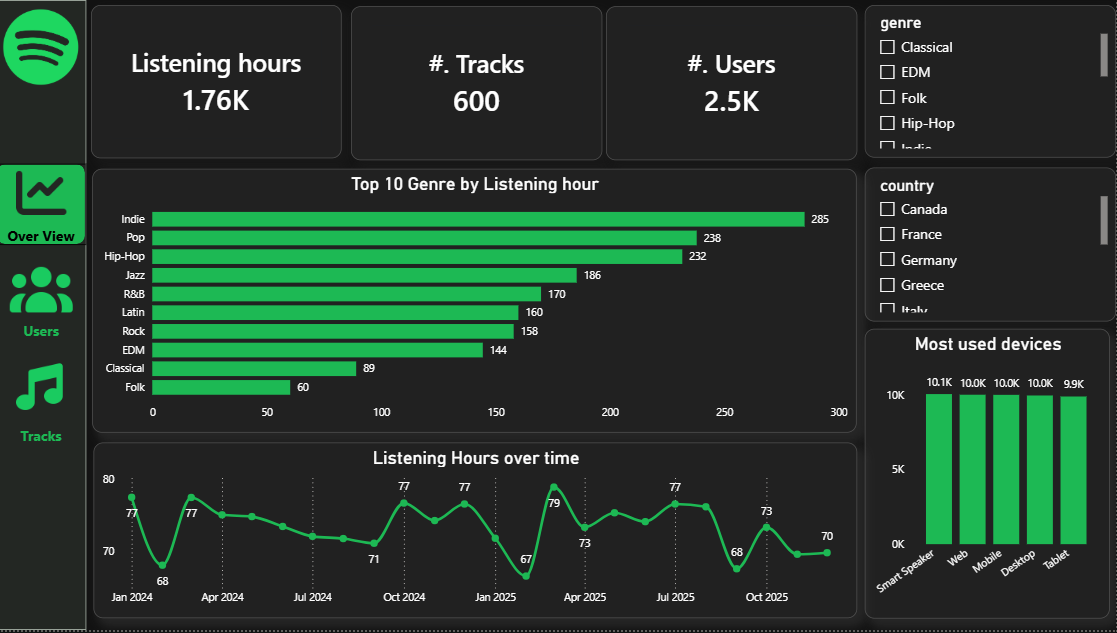

What the dashboard file says about the page in this screenshot:
{"tool":"powerbi","page":{"name":"Duplicate of Home","canvas":[1280,720],"ordinal":1},"visuals":[{"type":"shape","box":[0,0,103.3,720],"z":0},{"type":"shape","box":[697.1,535.7,288.6,175.7],"z":3000},{"type":"image","box":[6.7,8.3,88.3,90],"z":4000},{"type":"image","box":[15,183.3,71.7,75],"z":5000},{"type":"image","box":[15,268.3,71.7,75],"z":6000},{"type":"image","box":[15,356.7,71.7,75],"z":7000},{"type":"cardVisual","fields":{"Data":["fact_listens.Listing_hours"]},"box":[108.8,6.2,286.2,175],"z":8000},{"type":"cardVisual","fields":{"Data":["CountNonNull(dim_track.track_id)"]},"box":[405.7,7.1,287.1,175.7],"z":9000},{"type":"slicer","fields":{"Values":["dim_geo.country"]},"box":[992.9,191.4,287.1,175.7],"z":10000},{"type":"slicer","fields":{"Values":["dim_track.genre"]},"box":[992.9,5.7,287.1,174.3],"z":11000},{"type":"cardVisual","fields":{"Data":["CountNonNull(dim_user.user_id)"]},"box":[697.1,7.1,287.1,175.7],"z":12000},{"type":"clusteredBarChart","title":"Listening hours per Genre","fields":{"Category":["dim_track.genre"],"Y":["fact_listens.Listing_hours"]},"box":[110,192.9,872.9,334.3],"z":13000},{"type":"clusteredColumnChart","title":"Most used devices ","fields":{"Category":["dim_device.device_type"],"Y":["CountNonNull(fact_listens.session_id)"]},"box":[992.9,375.7,281.4,341.4],"z":14000},{"type":"donutChart","title":"Subscription Dist.","fields":{"Category":["dim_user.subscription_type"],"Y":["CountNonNull(dim_user.subscription_type)"]},"box":[108.6,535.7,580,178.6],"z":14001}]}

Visuals, with their boxes on the page's 1280x720 design canvas (x1, y1, x2, y2). These are canvas units, not pixel positions in the 1117x633 screenshot, which may show the page scaled, cropped or inside an application window:
shape: detection(0, 0, 103, 720)
shape: detection(697, 536, 986, 711)
image: detection(7, 8, 95, 98)
image: detection(15, 183, 87, 258)
image: detection(15, 268, 87, 343)
image: detection(15, 357, 87, 432)
cardVisual - fact_listens.Listing_hours: detection(109, 6, 395, 181)
cardVisual - CountNonNull(dim_track.track_id): detection(406, 7, 693, 183)
slicer - dim_geo.country: detection(993, 191, 1280, 367)
slicer - dim_track.genre: detection(993, 6, 1280, 180)
cardVisual - CountNonNull(dim_user.user_id): detection(697, 7, 984, 183)
"Listening hours per Genre" clusteredBarChart: detection(110, 193, 983, 527)
"Most used devices " clusteredColumnChart: detection(993, 376, 1274, 717)
"Subscription Dist." donutChart: detection(109, 536, 689, 714)
